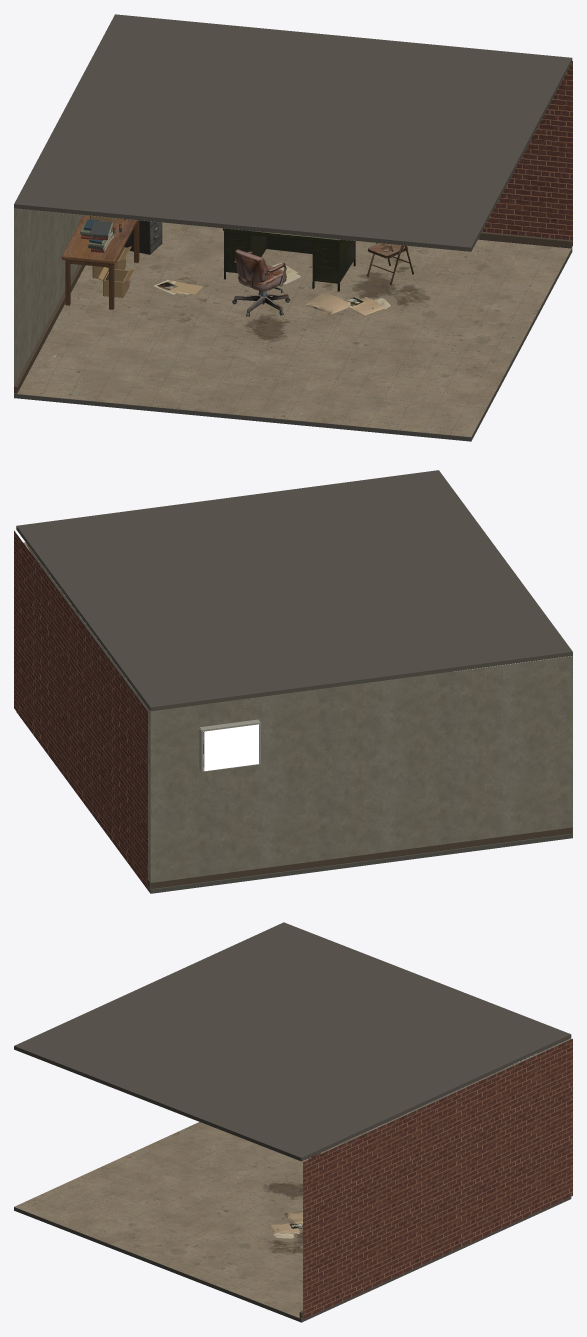
The model's file is room-lo-CvV0i_fy.glb.
3 views of the same model, one above another, from view 1: azimuth 30°, elevation 25°; view 2: azimuth 150°, elevation 25°; view 3: azimuth 270°, elevation 25° (orthographic). The views are drawn at different scales.
Visible parts, largest first — view 1: object_0008_0008_2, object_0008_0008_1, object_0008_0008_5, object_0008_0008_7, object_0008_0008_0, object_0004_Mesh, object_0002_model, object_0008_0008_13, object_0010_0010_0, object_0013_model, object_0010_0010_9, object_0010_0010_1 (+2 smaller); view 2: object_0008_0008_2, object_0008_0008_7, object_0008_0008_5, object_0008_0008_13, object_0008_0008_0, object_0008_0008_11, object_0008_0008_4, object_0008_0008_8; view 3: object_0008_0008_2, object_0008_0008_5, object_0008_0008_1, object_0008_0008_0, object_0013_model, object_0008_0008_4.
Part boxes in pixels (<box>): object_0008_0008_2: <box>14,14,572,251</box>; object_0008_0008_1: <box>15,222,571,436</box>; object_0008_0008_5: <box>482,61,572,246</box>; object_0008_0008_7: <box>14,208,83,386</box>; object_0008_0008_0: <box>14,229,572,441</box>; object_0004_Mesh: <box>223,228,355,291</box>; object_0002_model: <box>232,249,289,316</box>; object_0008_0008_13: <box>14,231,572,393</box>; object_0010_0010_0: <box>61,215,137,264</box>; object_0013_model: <box>304,292,395,315</box>; object_0010_0010_9: <box>90,216,134,297</box>; object_0010_0010_1: <box>65,220,139,309</box>; object_0008_0008_2: <box>16,470,572,711</box>; object_0008_0008_7: <box>150,656,572,889</box>; object_0008_0008_5: <box>14,530,147,889</box>; object_0008_0008_13: <box>148,827,572,888</box>; object_0008_0008_0: <box>16,712,572,893</box>; object_0008_0008_11: <box>204,724,258,770</box>; object_0008_0008_4: <box>26,543,150,889</box>; object_0008_0008_8: <box>199,719,260,771</box>; object_0008_0008_2: <box>14,922,571,1161</box>; object_0008_0008_5: <box>303,1039,572,1319</box>; object_0008_0008_1: <box>14,1122,378,1317</box>; object_0008_0008_0: <box>14,1126,571,1322</box>; object_0013_model: <box>270,1211,302,1239</box>; object_0008_0008_4: <box>320,1038,571,1153</box>.
Size of the model in its own units: 15.55 by 5.05 by 15.55.
Materials: 48 (20 with a texture image).
